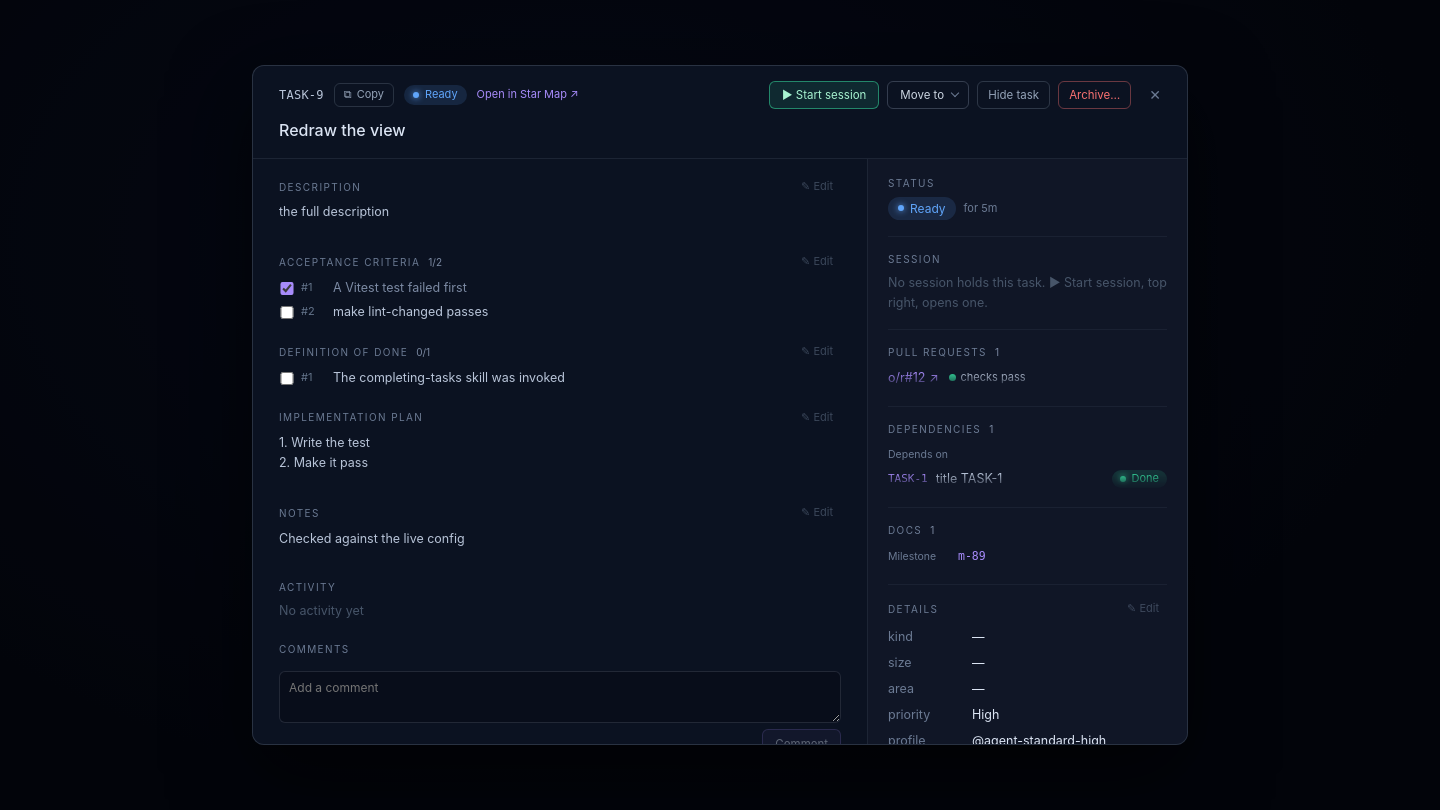
editing one section at a time › toggles a Definition of done checkbox straight to a write, with no editor
The width and height of the screenshot is (1440, 810).
Click the checkbox named "Definition of done #1 done": point(287, 378) [279,372,295,385]
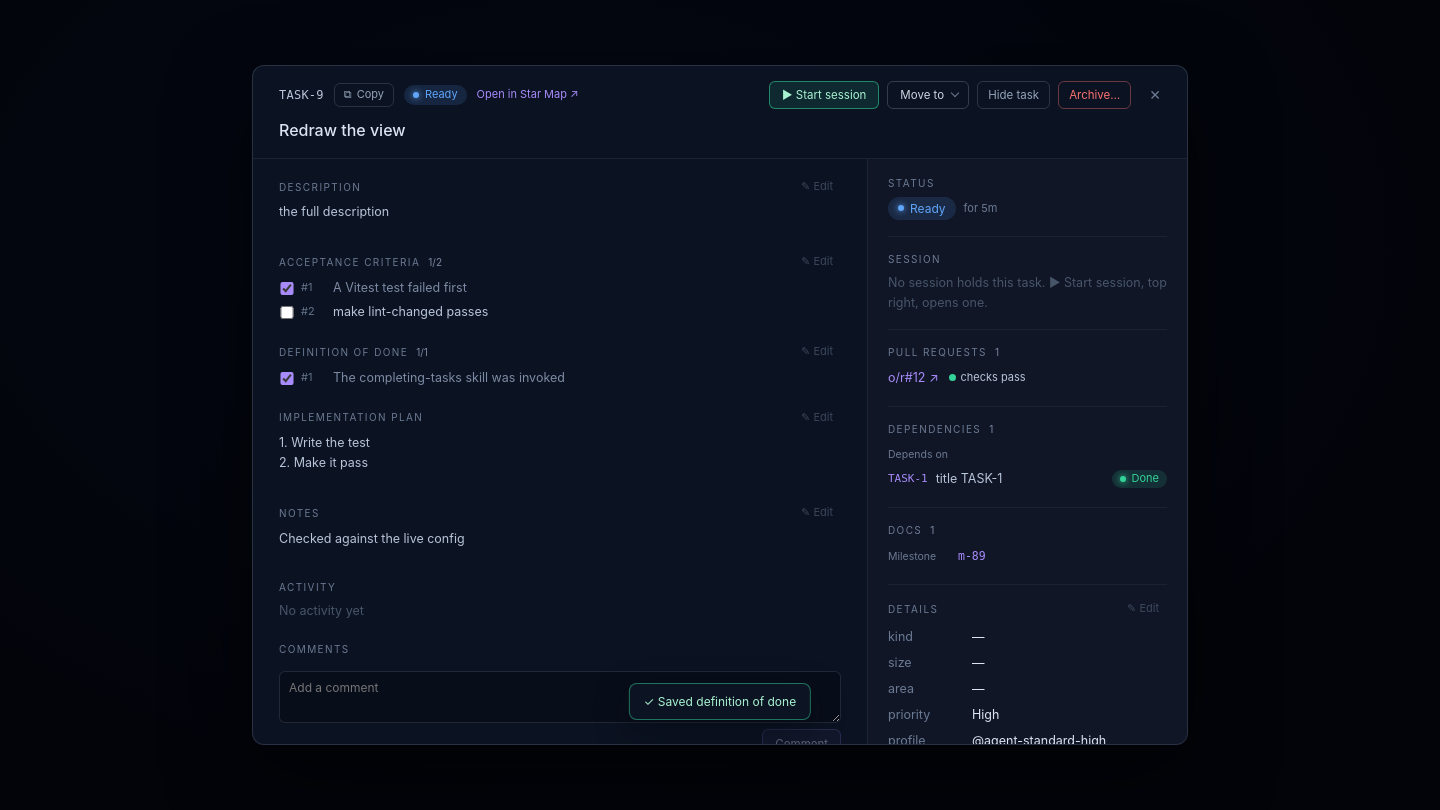
Expected: the message with class "toast" reads "✓ Saved definition of done", [644,694,796,709]
